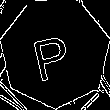P_N: (32, 23, 78, 81)
